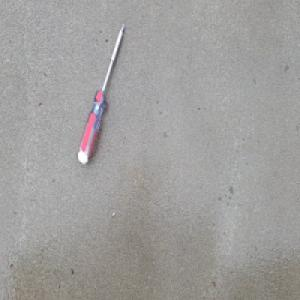Screwdriver: (77, 20, 127, 166)
